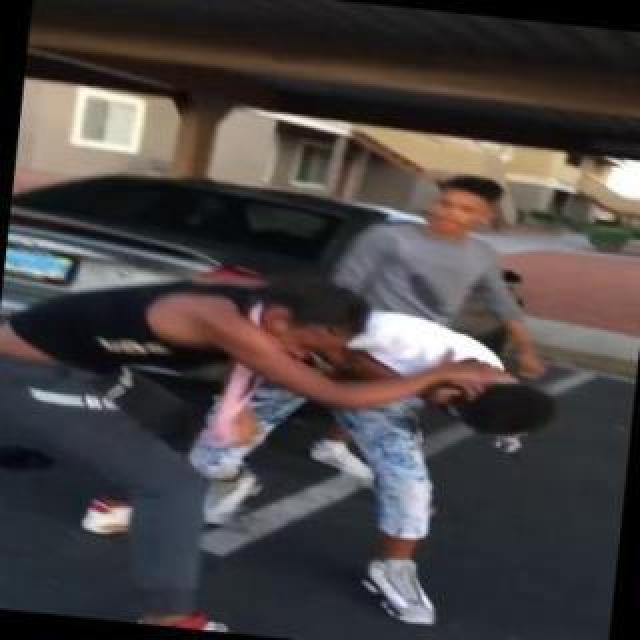fight: (0, 194, 538, 588)
